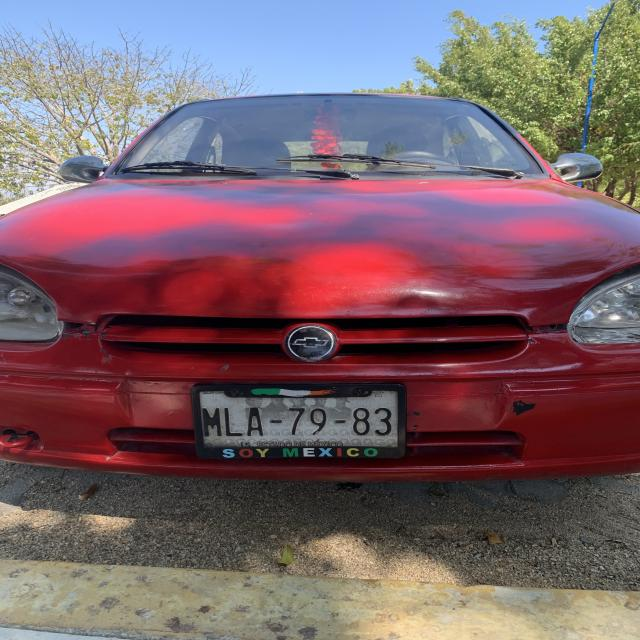placa: (193, 397, 401, 442)
